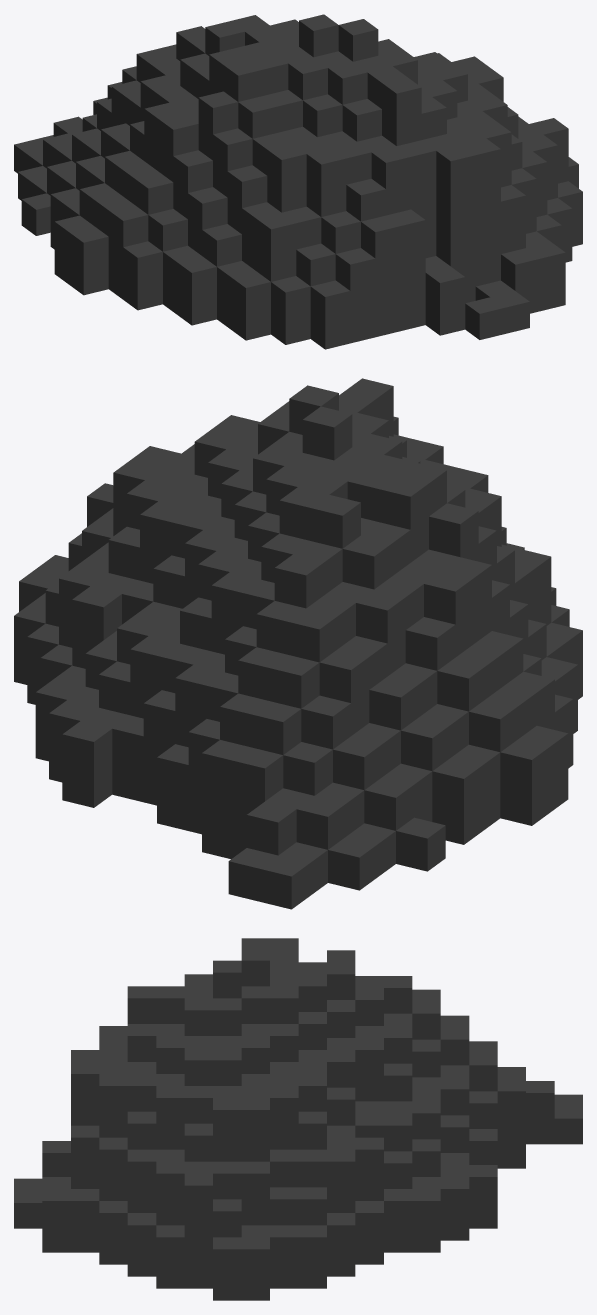
Rendered from prop_rock.obj.
3 renders of one model, top to bottom at view 1: azimuth 30°, elevation 25°; view 2: azimuth 150°, elevation 25°; view 3: azimuth 270°, elevation 25°, orthographic. The views are drawn at different scales.
Bounding box in the file's own units: 1.8 × 0.9 × 2.
Materials: 1 (1 with a texture image).
